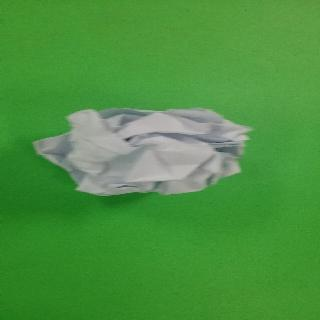8/可回收垃圾/纸: (31, 106, 254, 198)
